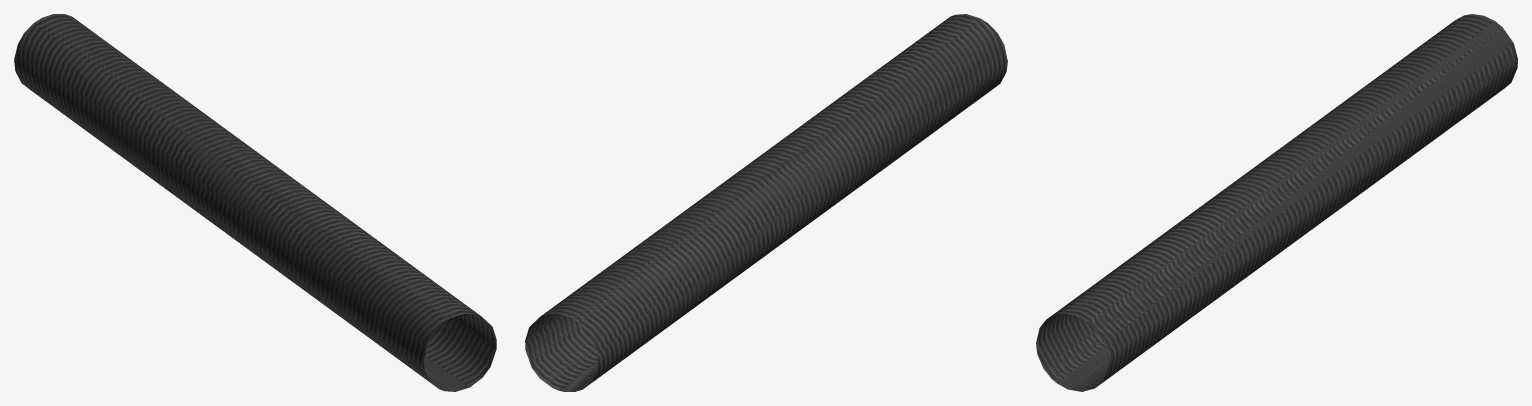
Rendered from anymal_foot_0.obj.
3 renders of one model, left to right at view 1: azimuth 30°, elevation 25°; view 2: azimuth 150°, elevation 25°; view 3: azimuth 330°, elevation 25°, orthographic.
Parts seen in each view (by area): view 1: anymal_foot_0; view 2: anymal_foot_0; view 3: anymal_foot_0.
Part boxes in pixels (box(x1,y1,x2,y2)): anymal_foot_0: box(14, 14, 496, 391); anymal_foot_0: box(525, 14, 1007, 391); anymal_foot_0: box(1036, 14, 1517, 391).
Size of the model in its own units: 0.0299 by 0.0299 by 0.29.
1 material, 1 textured.
